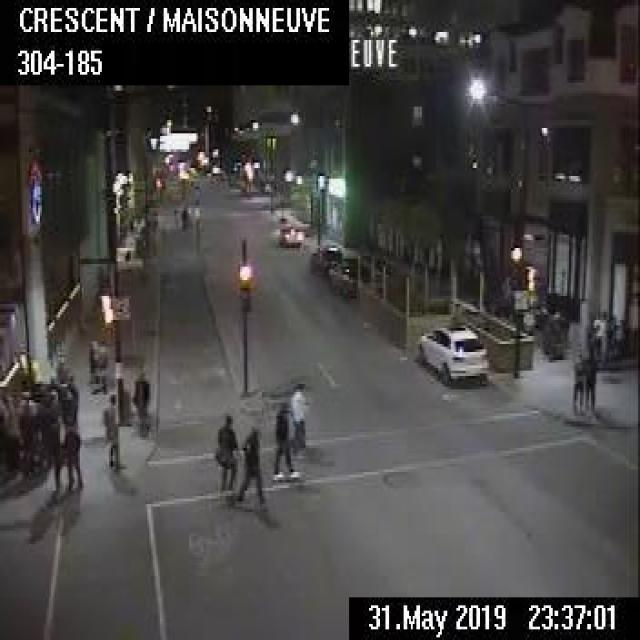pedestrian: (235, 424, 266, 504), (271, 397, 297, 475), (214, 413, 238, 492), (100, 387, 120, 469), (288, 379, 306, 457), (64, 419, 82, 489), (48, 419, 64, 493), (131, 371, 149, 432), (582, 344, 596, 407), (570, 350, 584, 408), (92, 338, 106, 392), (86, 337, 98, 384)
vehicle: (416, 315, 491, 384), (327, 254, 369, 298), (173, 197, 205, 229), (309, 244, 341, 268), (277, 220, 304, 246)
